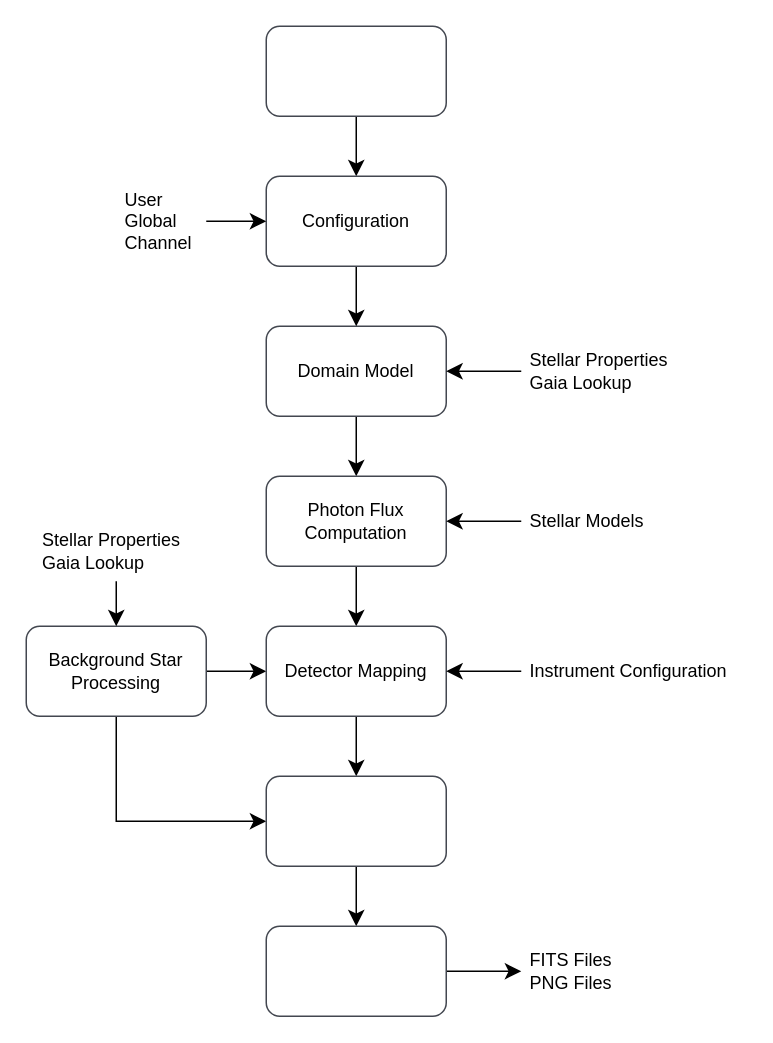
The diagram is 773 pixels wide and 1043 high, and some of its shapes have lost their labels. Each missing label, with the centre of its shape:
Output Generation: [355,970]
Science Image Generation: [355,820]
WALTzER Simulator: [355,70]
